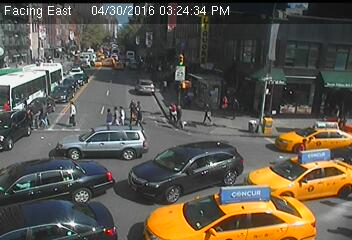neg: (248, 95, 276, 132), (179, 156, 202, 187), (298, 147, 319, 175), (193, 23, 212, 49), (228, 178, 247, 203), (11, 168, 30, 193), (328, 32, 345, 56), (70, 141, 87, 164), (103, 158, 120, 181), (278, 7, 295, 29), (292, 85, 308, 107), (140, 35, 156, 56), (79, 12, 95, 33), (14, 34, 29, 54), (14, 146, 29, 166), (88, 52, 102, 71), (238, 45, 252, 63), (41, 42, 53, 57), (323, 73, 333, 86), (71, 70, 77, 79)
pos: (64, 95, 84, 122), (165, 101, 184, 126), (115, 100, 132, 124), (216, 93, 233, 116), (201, 102, 218, 125), (228, 97, 244, 117), (130, 107, 145, 127), (122, 94, 137, 113), (101, 105, 116, 124), (133, 98, 146, 116), (110, 105, 122, 121), (2, 97, 14, 112), (160, 78, 170, 92)
